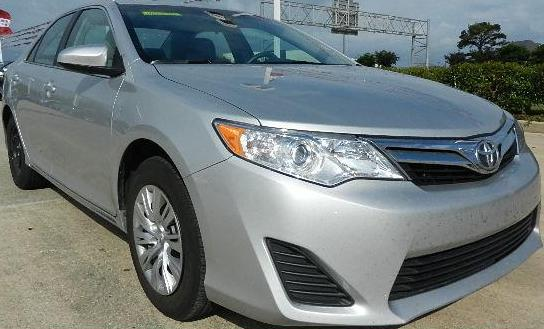front_view: (204, 102, 538, 299)
headlight: (206, 115, 405, 186)
